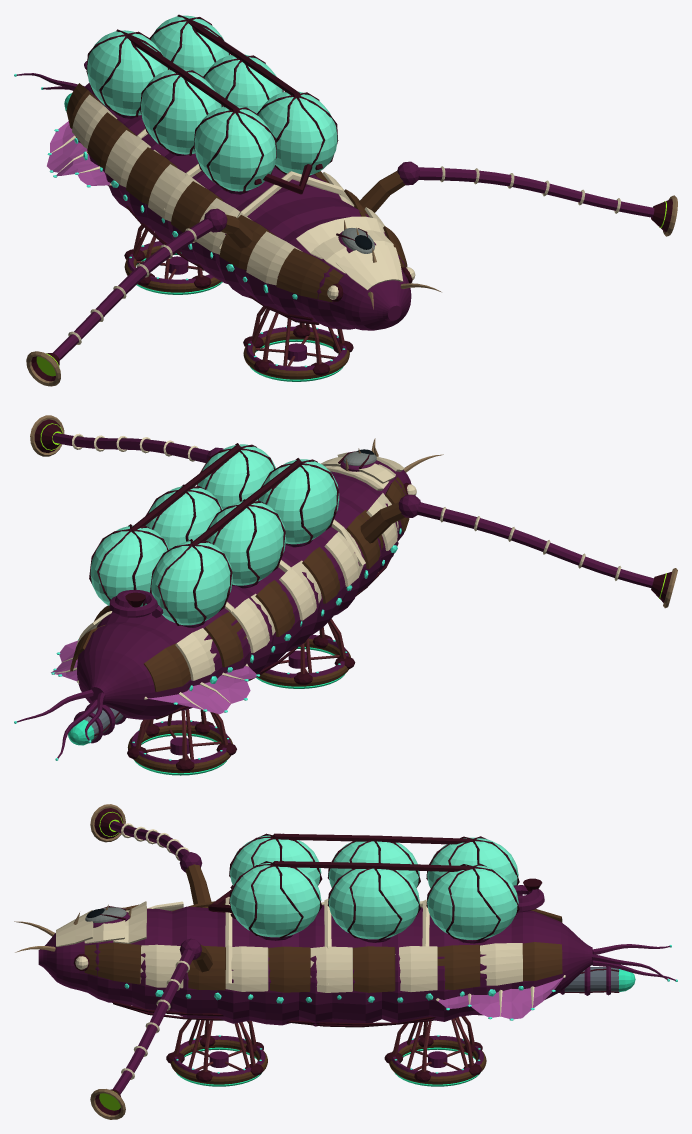
File: steam_tender.obj
3 renders of one model, top to bottom at view 1: azimuth 30°, elevation 25°; view 2: azimuth 150°, elevation 25°; view 3: azimuth 270°, elevation 25°, orthographic. The views are drawn at different scales.
Parts seen in each view (by area): view 1: steam_tender; view 2: steam_tender; view 3: steam_tender.
Boxes of the visible parts, box(x1,y1,x2,y2) form: steam_tender: box(14, 14, 677, 386); steam_tender: box(14, 415, 677, 775); steam_tender: box(14, 804, 677, 1119).
Bounding box in the file's own units: 500 × 177 × 484.
1 material, 1 textured.
